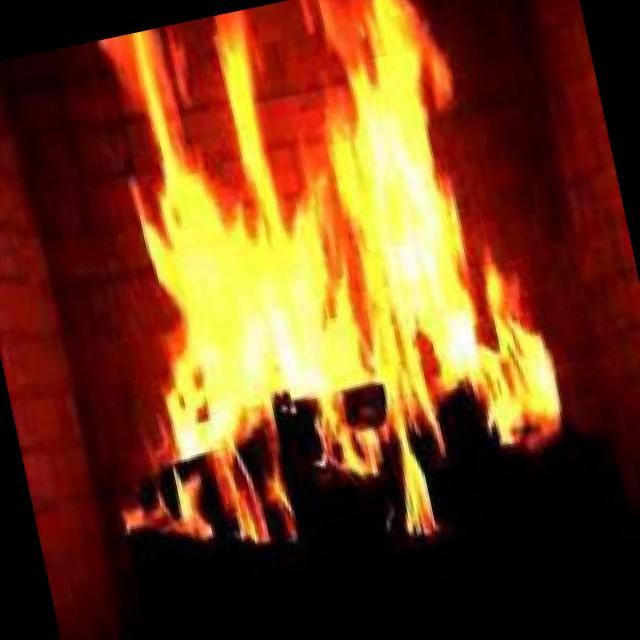Fire: (24, 0, 588, 603)
